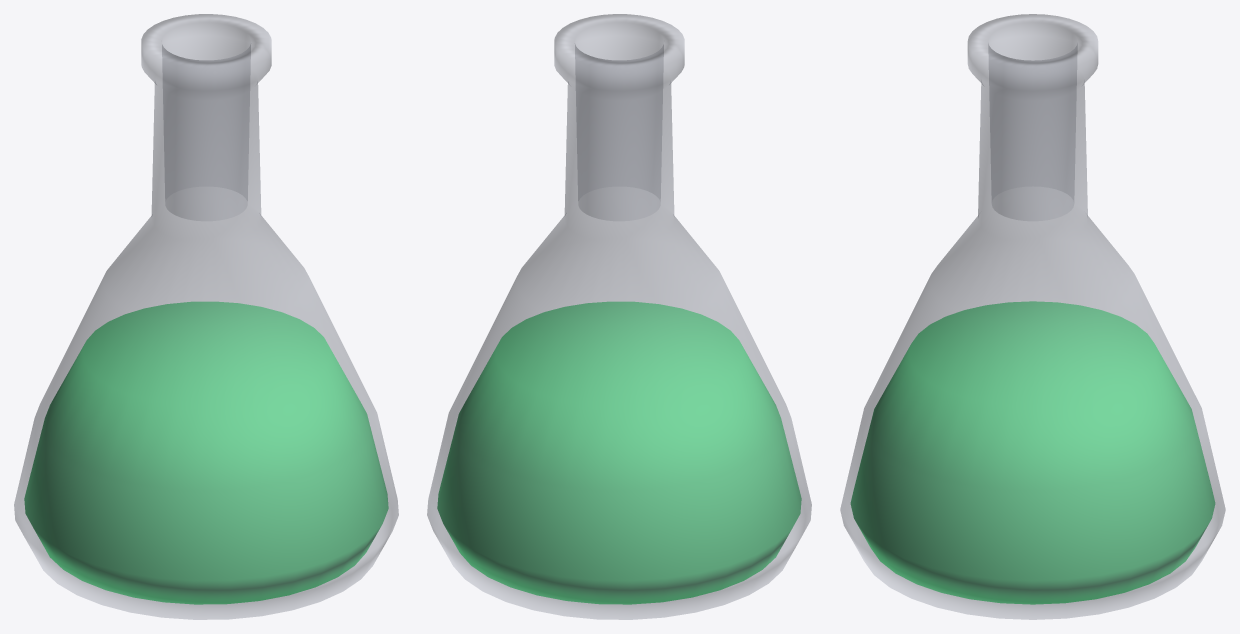
File: long-vest.glb
3 views of the same model, side by side, from view 1: azimuth 30°, elevation 25°; view 2: azimuth 150°, elevation 25°; view 3: azimuth 270°, elevation 25° (orthographic).
Visible parts, largest first — view 1: anchor_neg; view 2: anchor_neg; view 3: anchor_neg.
Boxes of the visible parts, left/top/right/bottom form: anchor_neg: left=14, top=14, right=398, bottom=619; anchor_neg: left=427, top=14, right=811, bottom=619; anchor_neg: left=840, top=14, right=1225, bottom=619.
Size of the model in its own units: 0.1228 by 0.1776 by 0.1228.
